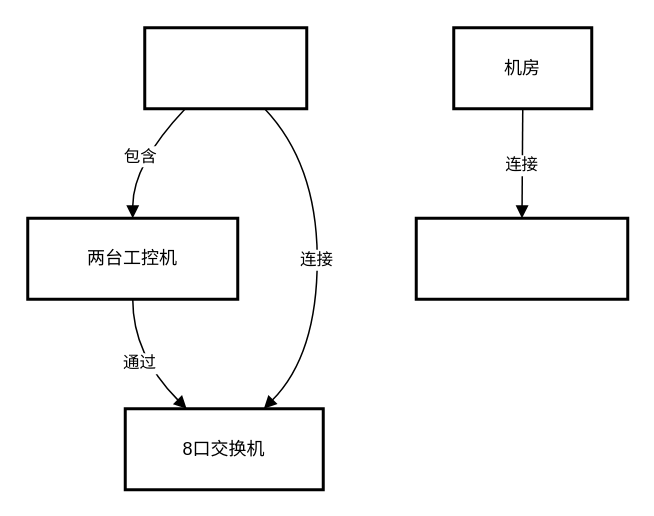
This 654x516 diagram has some shape labels left out. Each missing label, with the centre of its shape:
"24口交换机" belongs at pixel 521 258.
"集控室" belongs at pixel 225 68.
